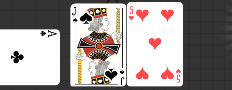4H: (174, 67, 181, 83)
5C: (118, 68, 126, 84)
AC: (38, 29, 58, 38)
